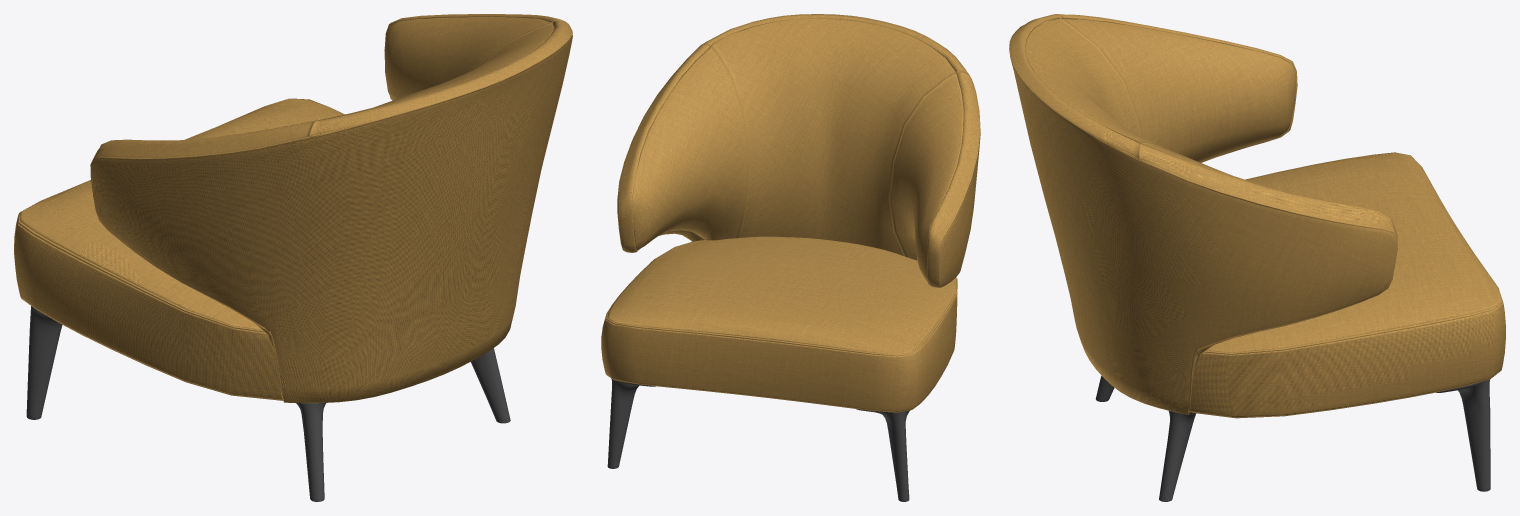
3 views of the same model, side by side, from view 1: azimuth 30°, elevation 25°; view 2: azimuth 150°, elevation 25°; view 3: azimuth 270°, elevation 25° (orthographic). The views are drawn at different scales.
Visible parts, largest first — view 1: Armchair _02; view 2: Armchair _02; view 3: Armchair _02.
Part boxes in pixels (bbox=[...]): Armchair _02: bbox=[14, 14, 572, 501]; Armchair _02: bbox=[601, 14, 980, 501]; Armchair _02: bbox=[1009, 14, 1505, 501].
Size of the model in its own units: 0.8513 by 0.7991 by 0.9163.
Materials: 2 (1 with a texture image).
